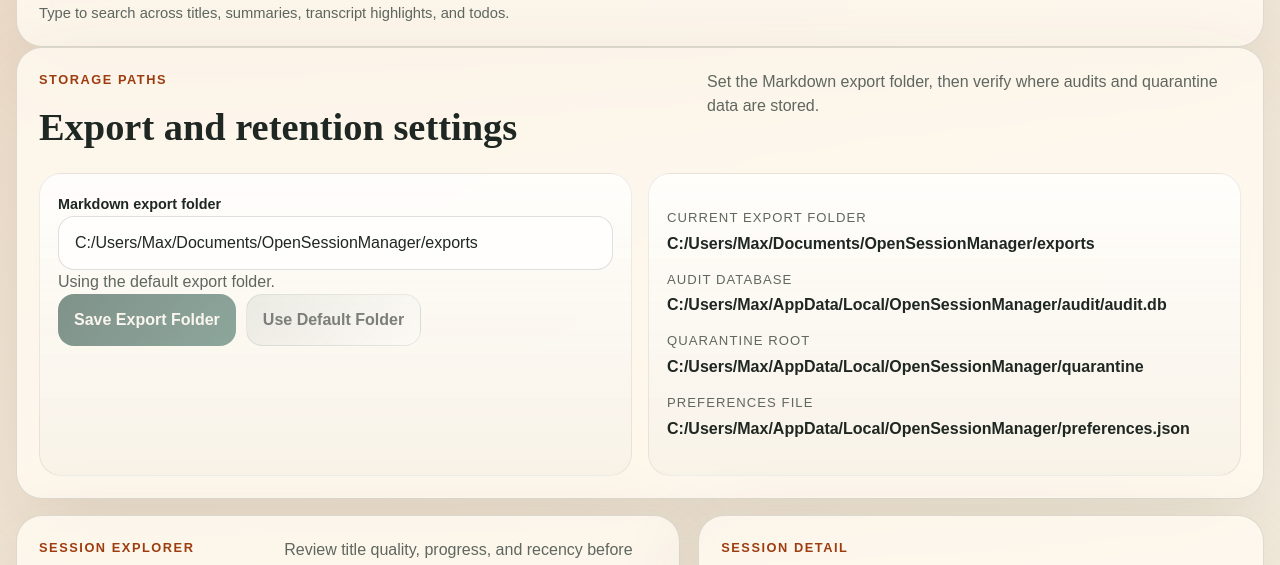
Test: App › 允许修改 Markdown 导出目录并应用到后续导出
(page scrolled)
Replace the text in the field labelled "Markdown export folder" with "D:/OSM/exports" at (336, 243), box [58, 216, 613, 270]
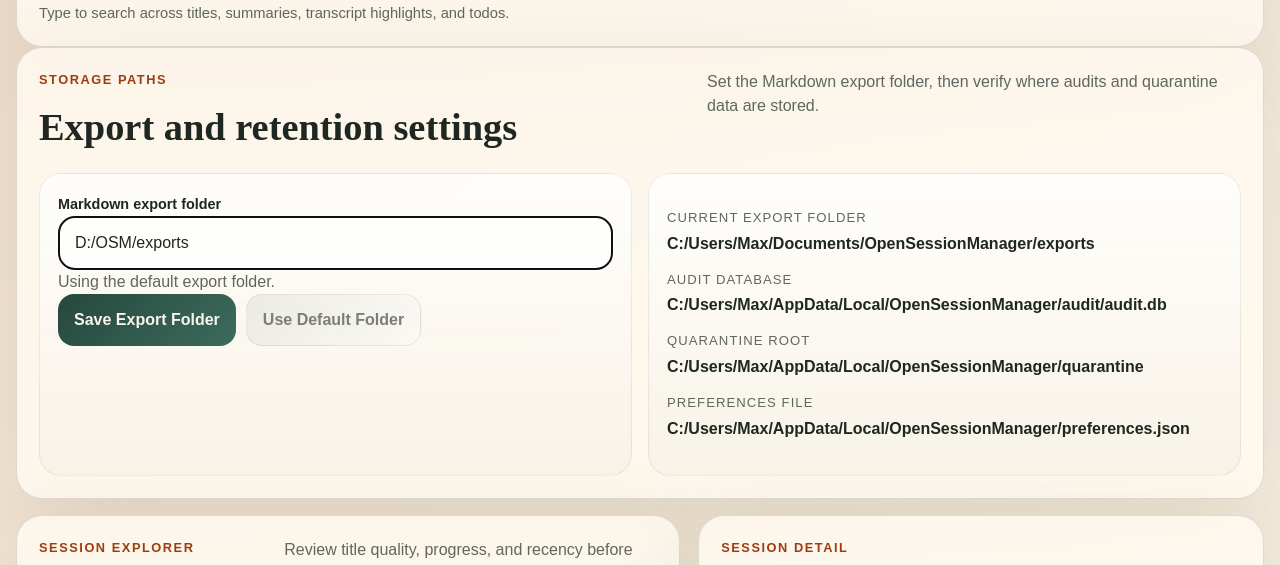
Click the button "Save Export Folder" at (147, 320), box [58, 294, 236, 346]
(page scrolled)
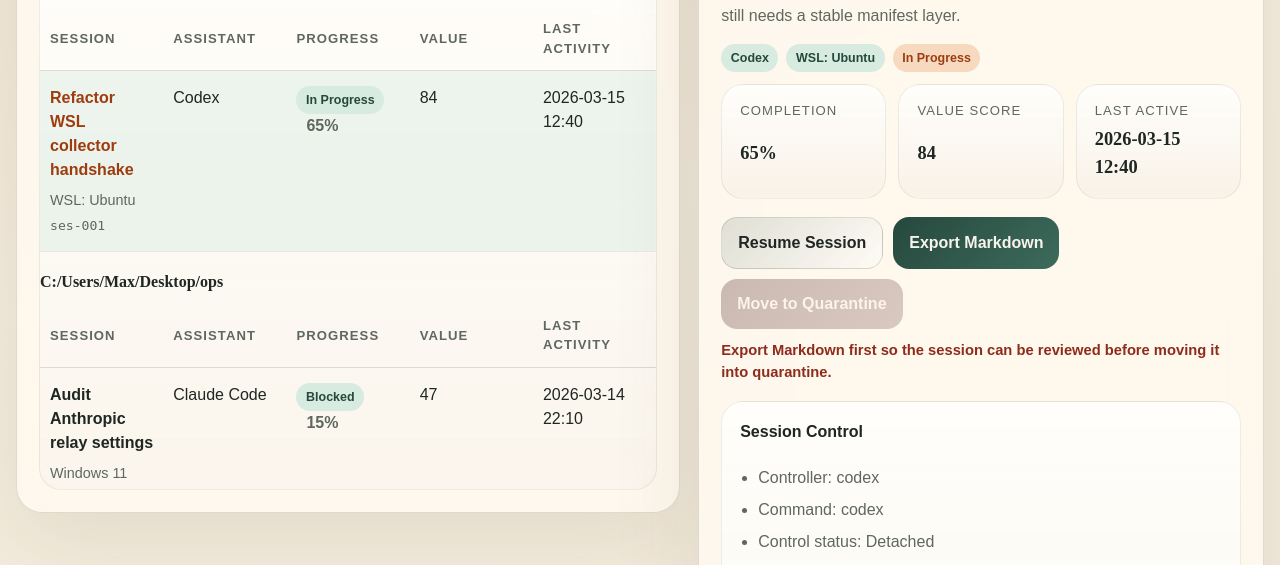
Click the button "Export Markdown" at (976, 243), box [893, 217, 1060, 269]
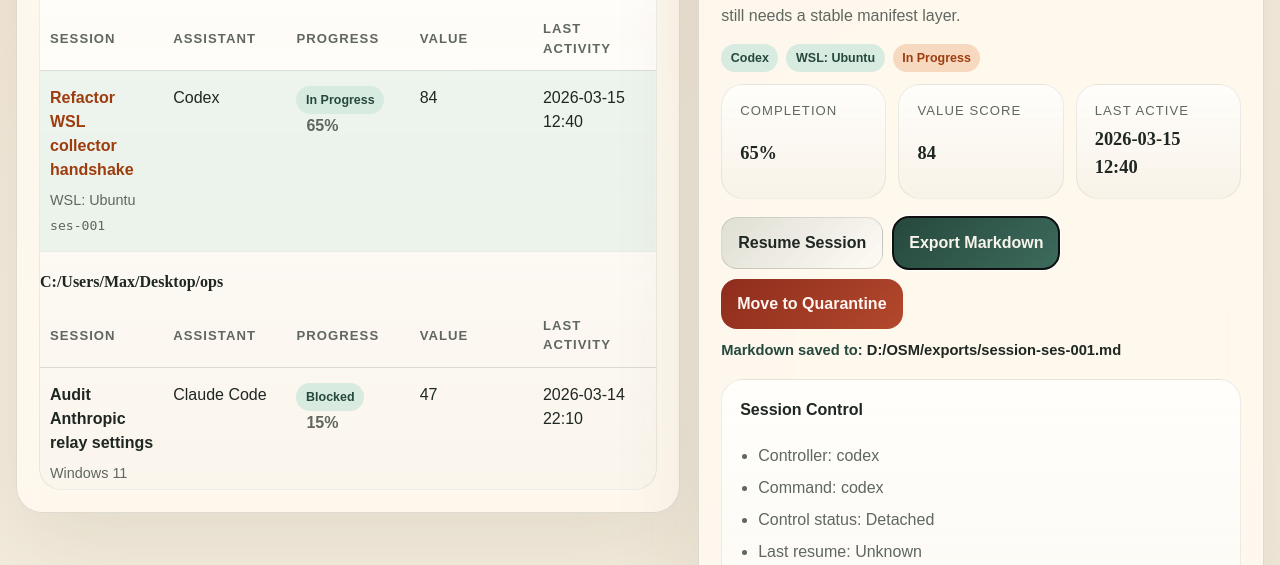
Expected: the text "D:/OSM/exports/session-ses-001.md" is shown, [867, 342, 1121, 358]
